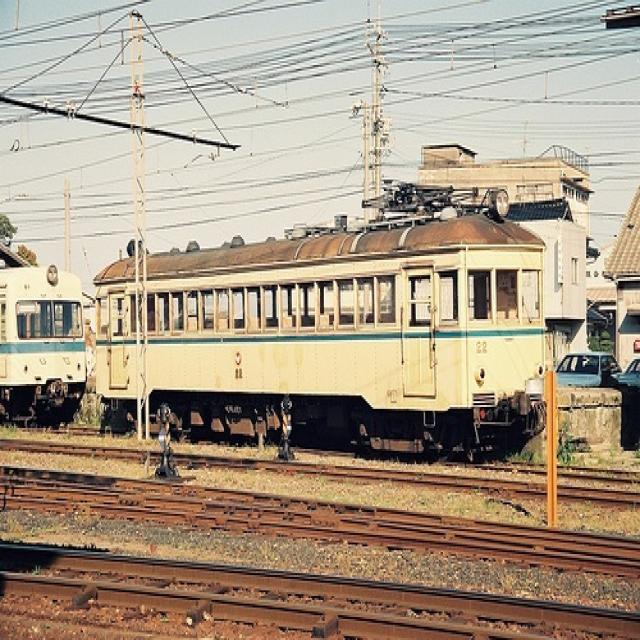train: (92, 185, 551, 462), (1, 261, 91, 431)
